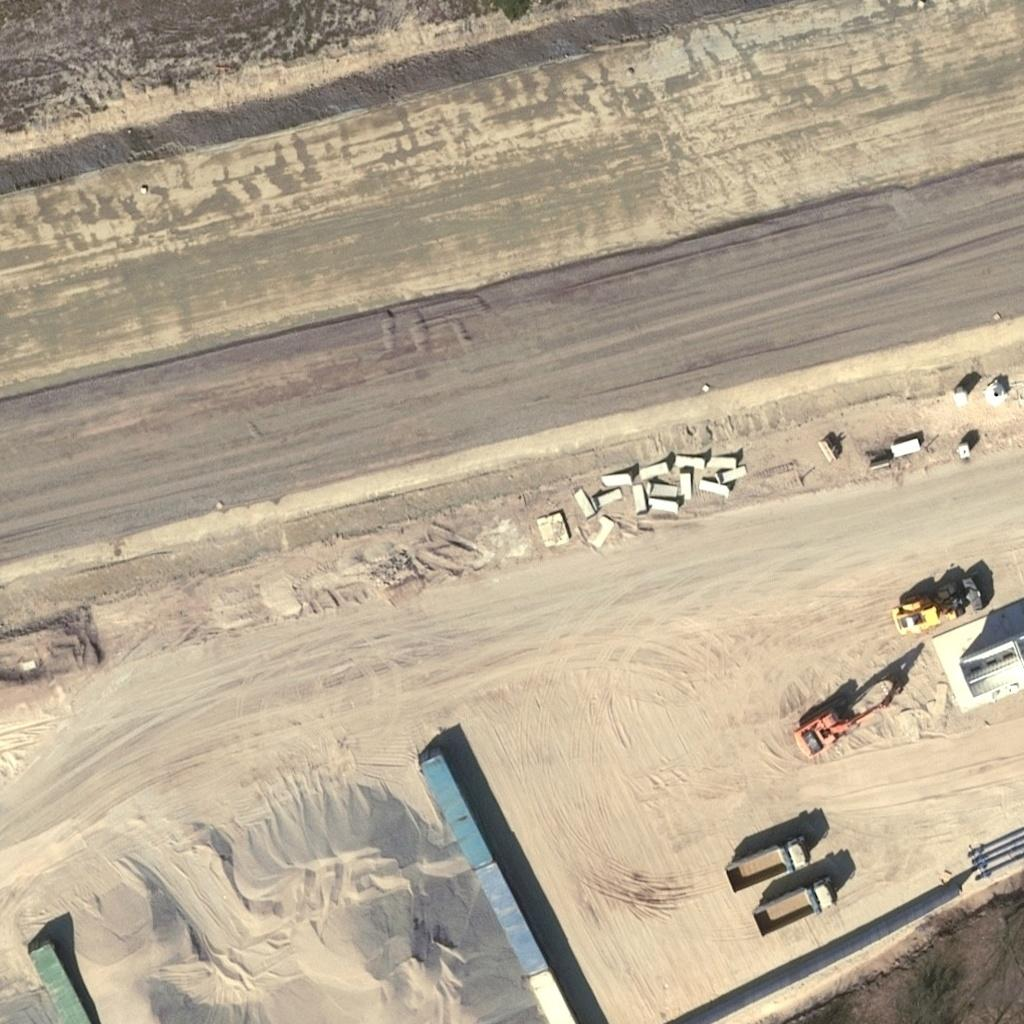ciezarowka: (748, 873, 843, 943), (722, 831, 815, 898)
koparka: (785, 669, 909, 765), (889, 572, 987, 642)
